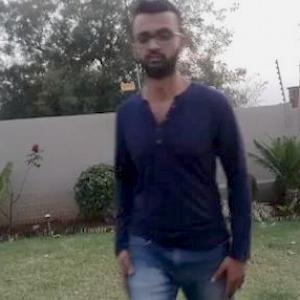follow: (122, 9, 238, 299)
